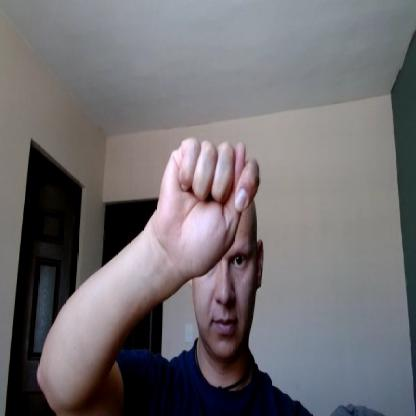T: (154, 136, 262, 274)
